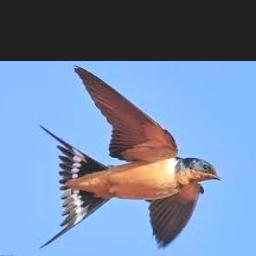Swallow: (39, 65, 226, 249)
